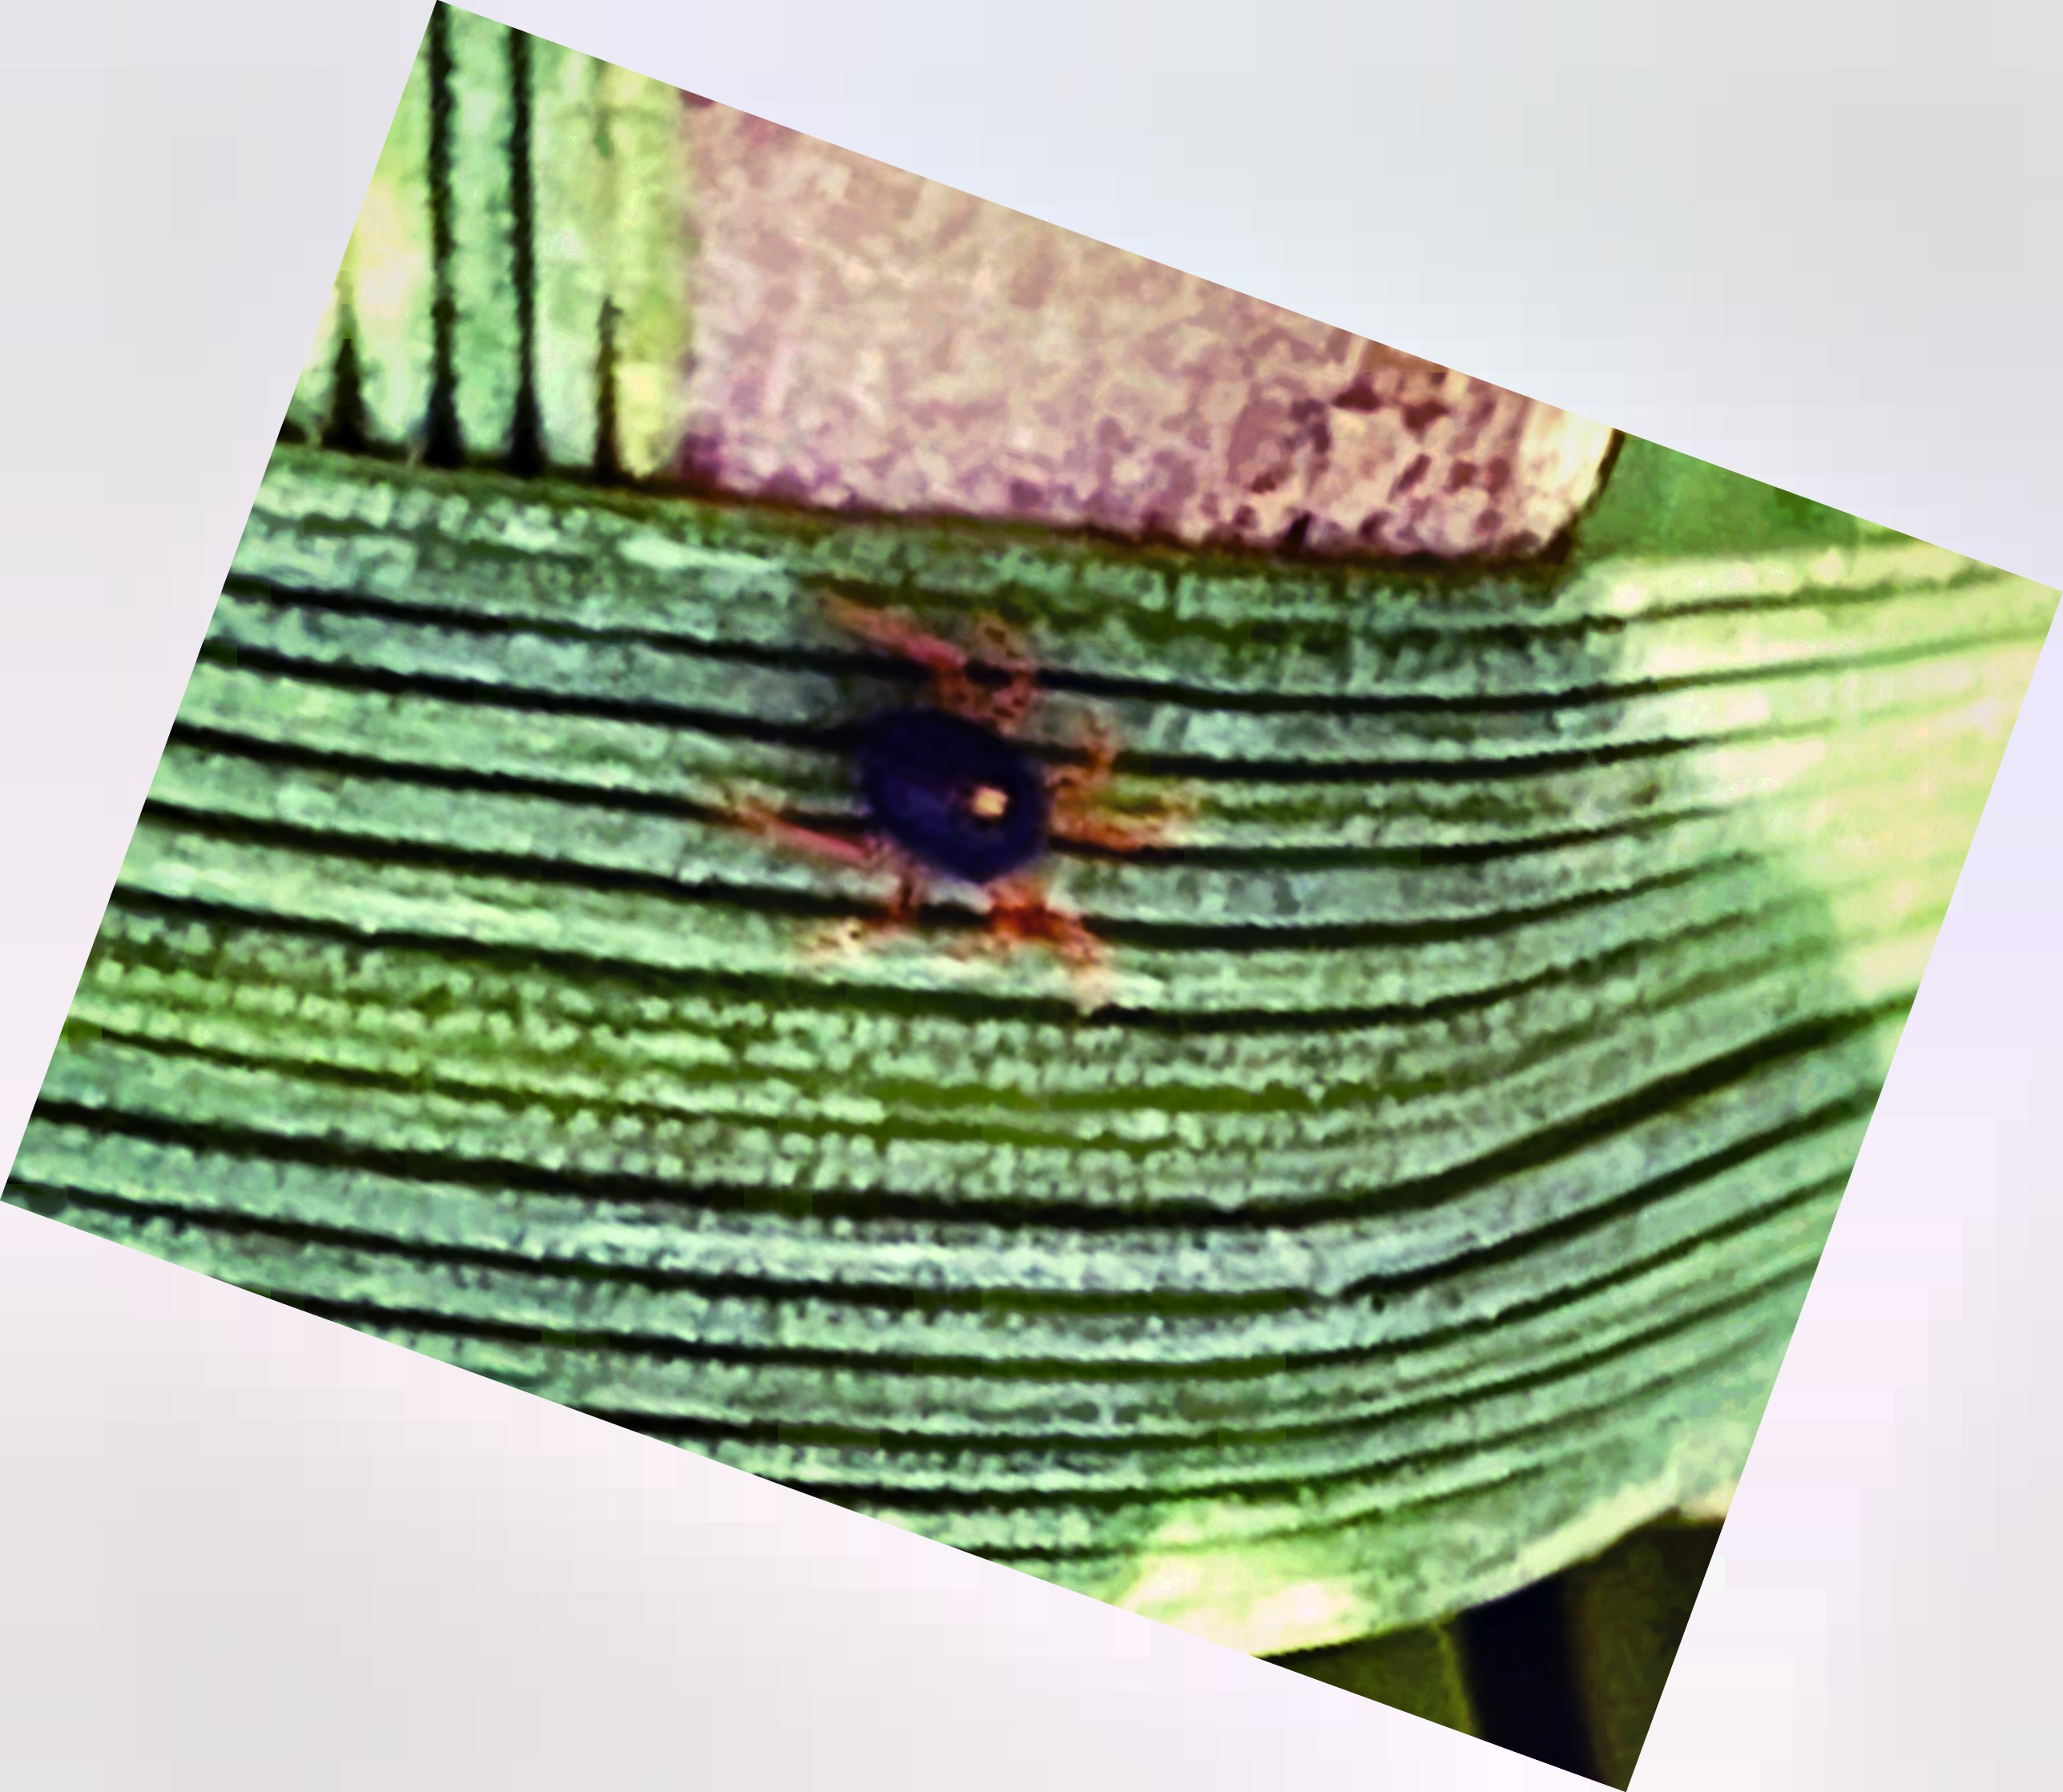Wheat Red Spider: (686, 596, 1193, 1020)
